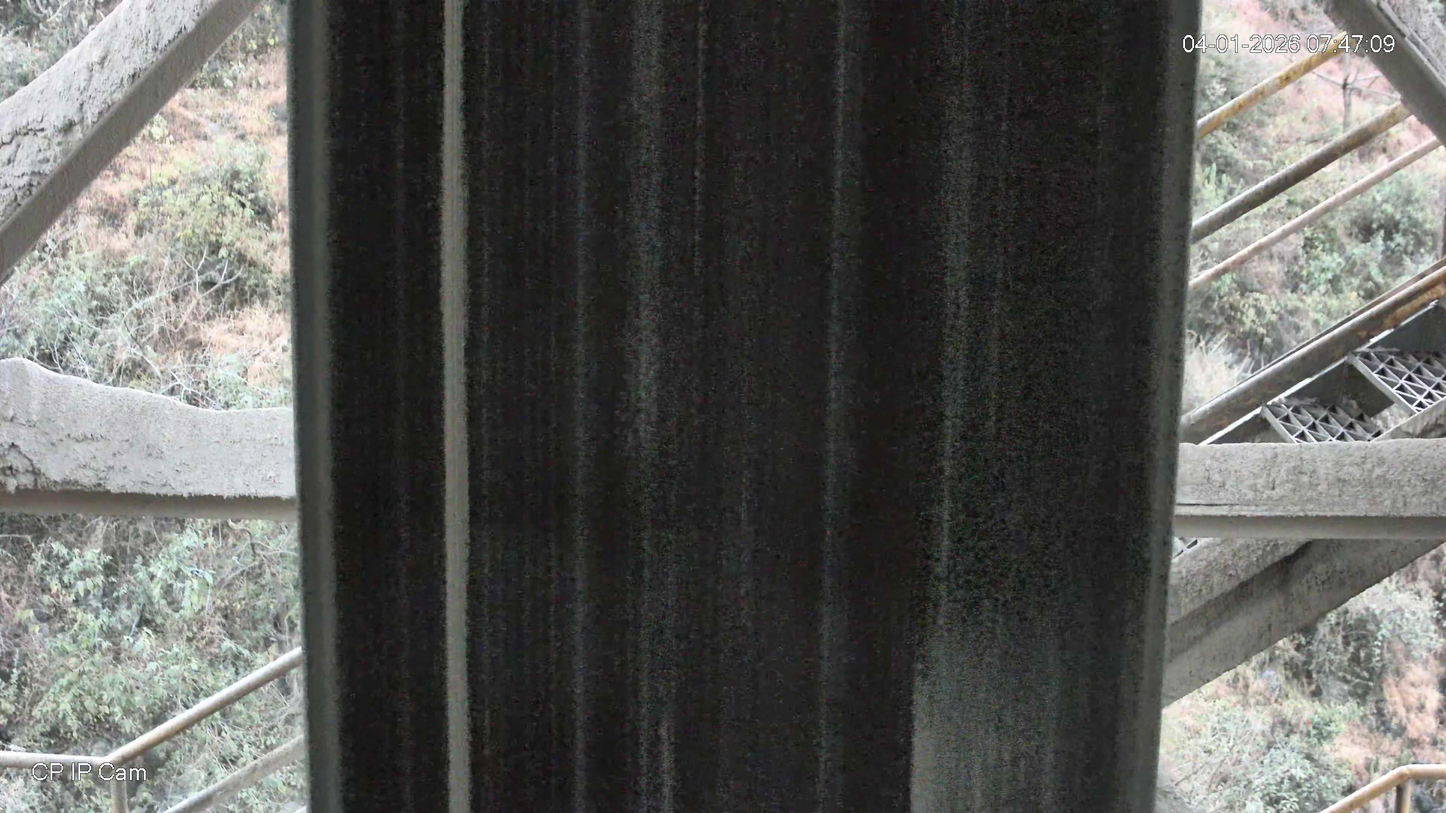belt_roi: (293, 0, 1200, 813)
